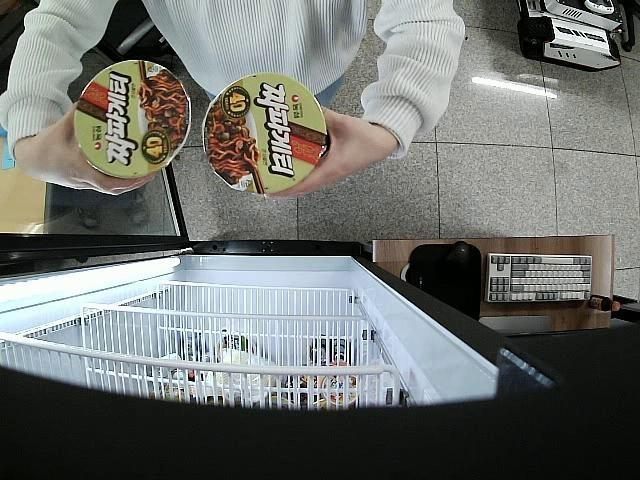03_chapagetti_L: (203, 72, 328, 197), (72, 57, 194, 179)
